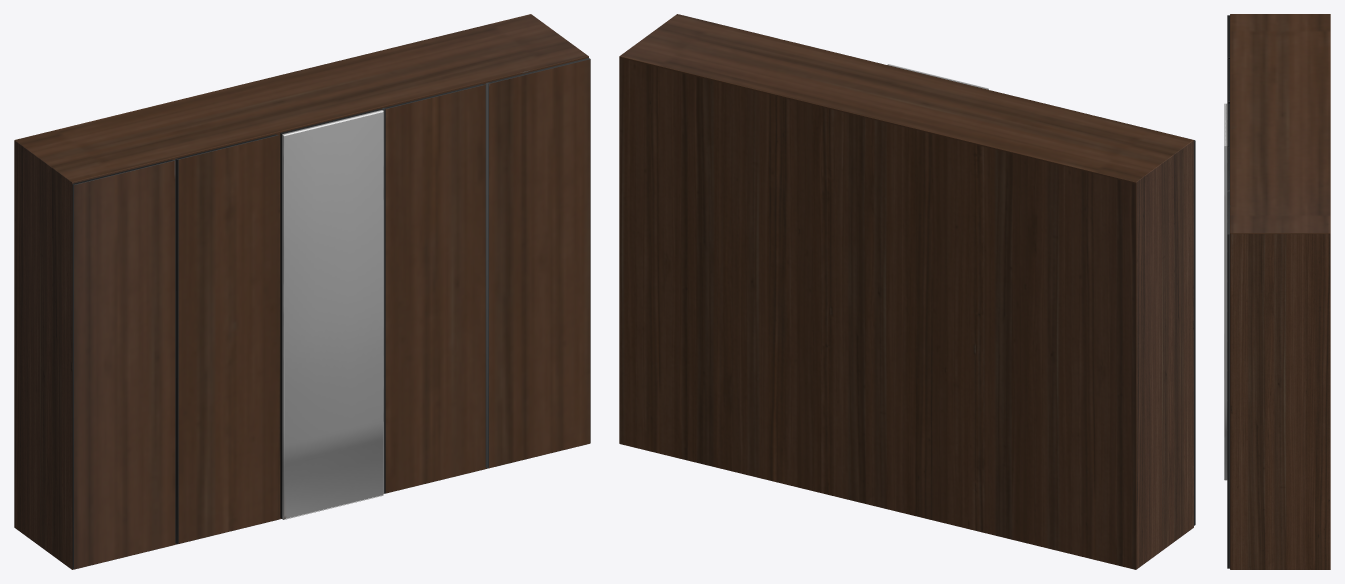
The model's file is raw_model.obj.
3 views of the same model, side by side, from view 1: azimuth 30°, elevation 25°; view 2: azimuth 150°, elevation 25°; view 3: azimuth 270°, elevation 25° (orthographic). The views are drawn at different scales.
Parts seen in each view (by area): view 1: solid_002, solid_001, solid_003; view 2: solid_002, solid_003; view 3: solid_002, solid_003, solid_001.
Boxes of the visible parts, x1=… form: solid_002: x1=14, y1=14, x2=590, y2=569; solid_001: x1=282, y1=110, x2=383, y2=519; solid_003: x1=72, y1=58, x2=590, y2=569; solid_002: x1=619, y1=14, x2=1193, y2=569; solid_003: x1=683, y1=15, x2=1195, y2=525; solid_002: x1=1230, y1=14, x2=1330, y2=569; solid_003: x1=1227, y1=15, x2=1229, y2=568; solid_001: x1=1224, y1=103, x2=1227, y2=480.
Bounding box in the file's own units: 3.57 × 2.56 × 0.731.
1 material, 1 textured.
